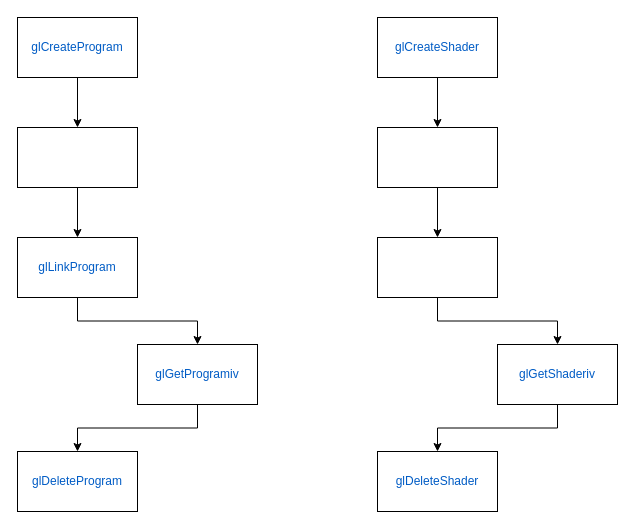
This 635x529 diagram has some shape labels left out. The centre of each missing label's shape, as x and y in pixels:
glAttachShader: the point at 77,157
glCompileShader: the point at 437,267
glShaderSource: the point at 437,157
